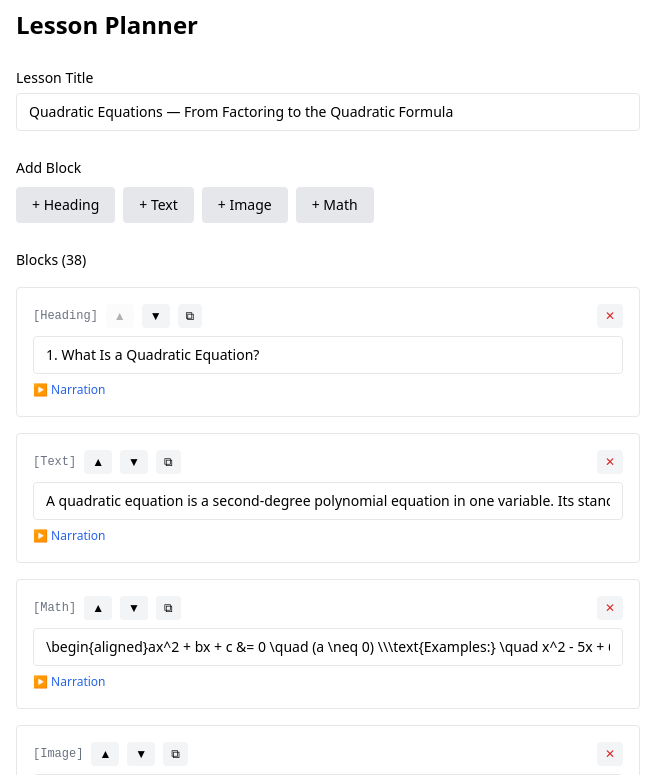
LessonPlanner › shows narration textarea when narration section is expanded
Click the button with aria-label "Toggle narration" at x=69, y=390, box x1=33 y1=382 x2=106 y2=398
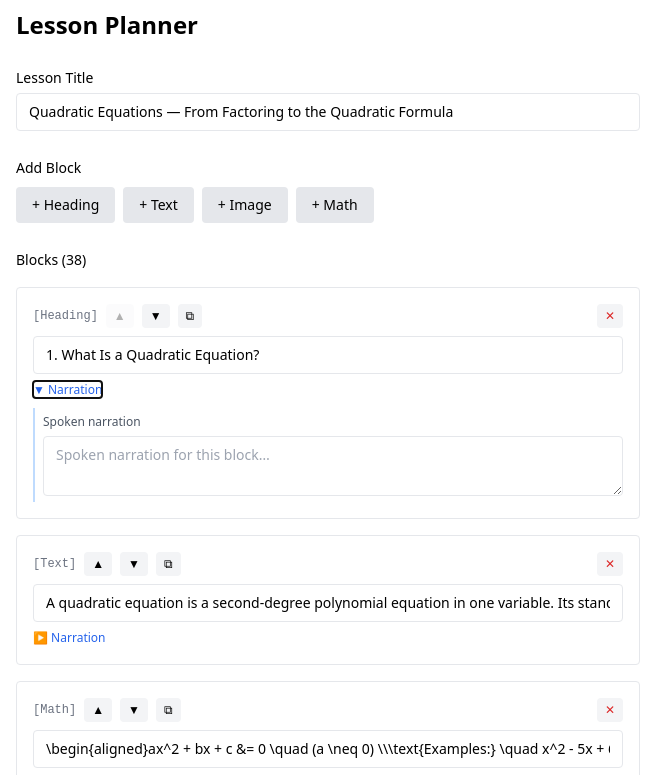
Expected: the button with aria-label "Toggle narration" shows "▼", x1=33 y1=382 x2=102 y2=398
